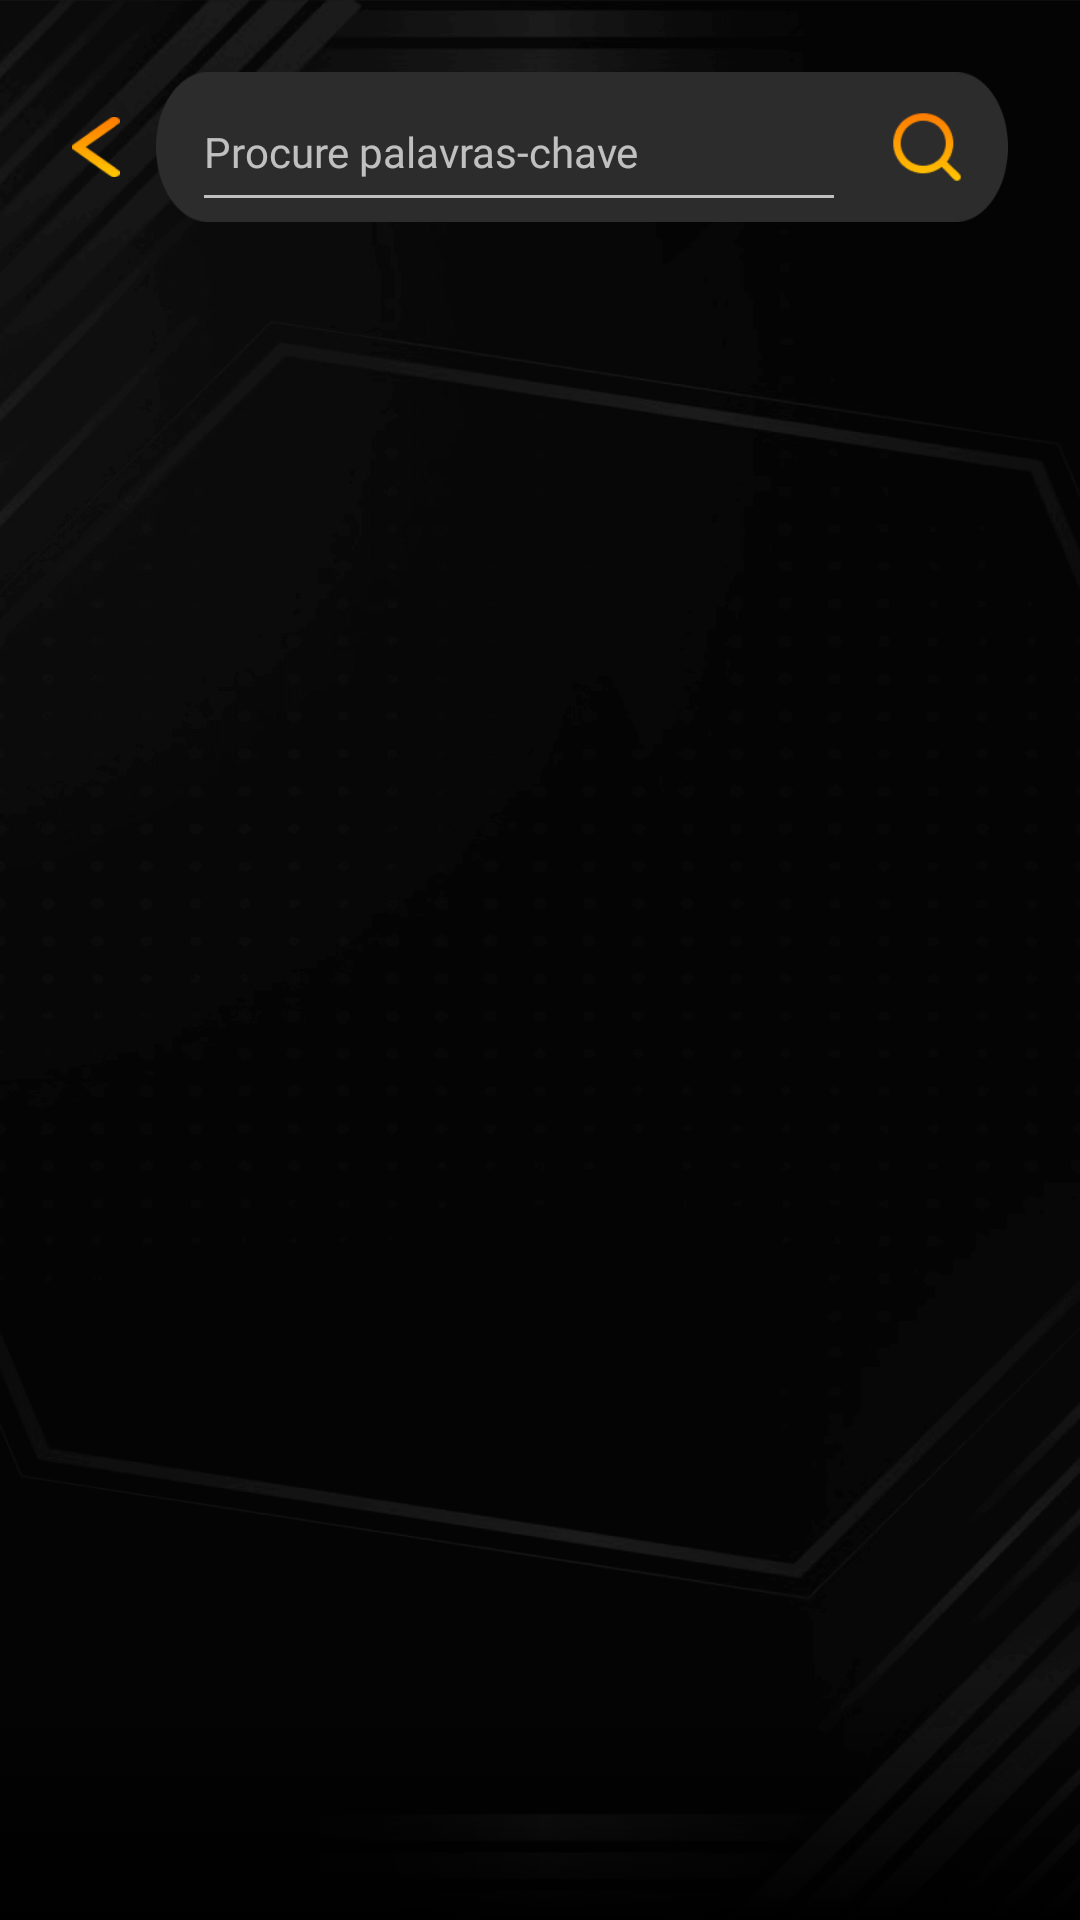

Icons on this 1080px x 1920px Android screen, each with its box as {"left": x1, "top": y1, "right": x2, "bottom": y2}:
back arrow kaverdarm: {"left": 72, "top": 117, "right": 120, "bottom": 177}
search kaverdarm: {"left": 893, "top": 113, "right": 961, "bottom": 181}
